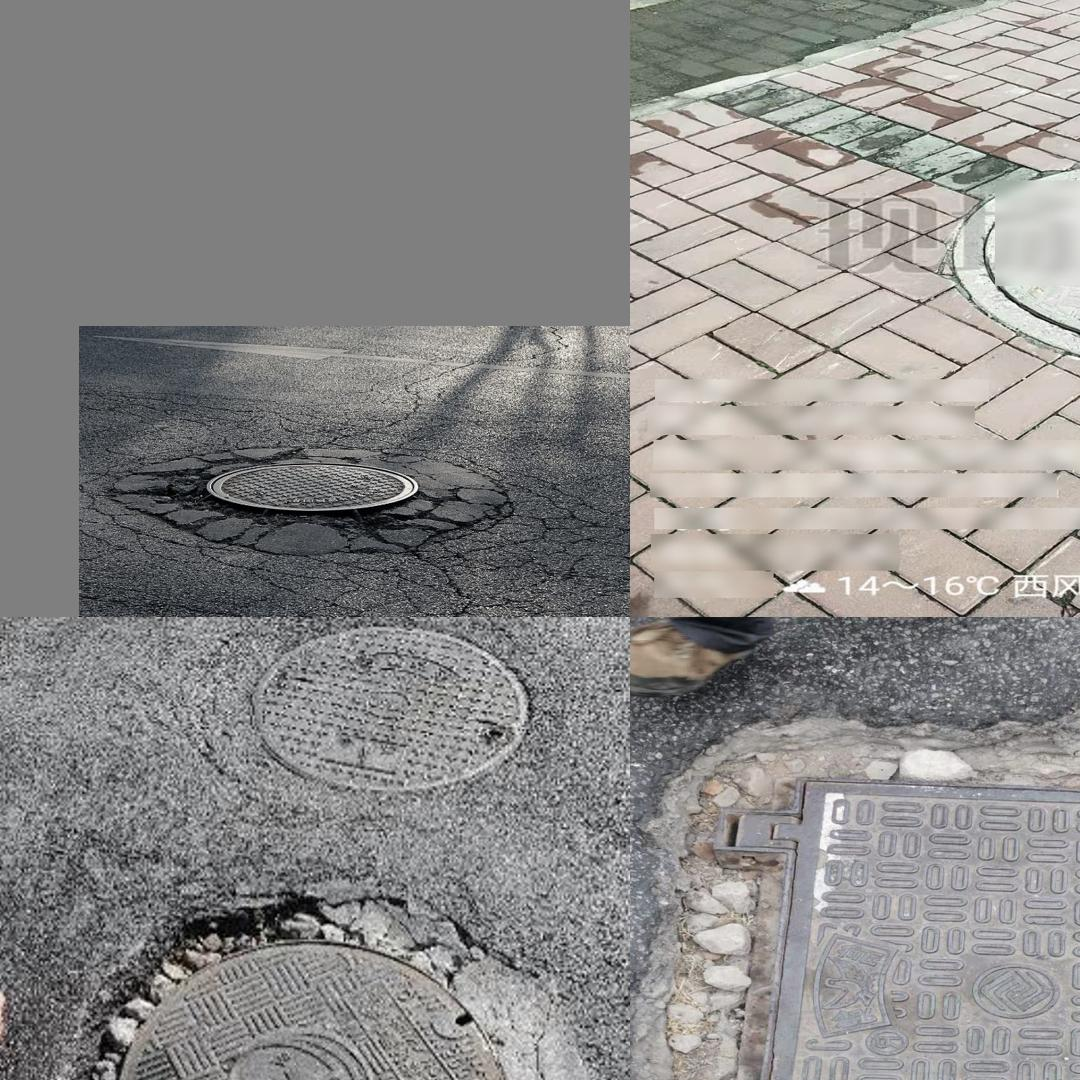circle: (654, 741, 1080, 1080), (75, 896, 586, 1080), (147, 442, 524, 569), (944, 162, 1080, 376)
good: (246, 624, 536, 793)
